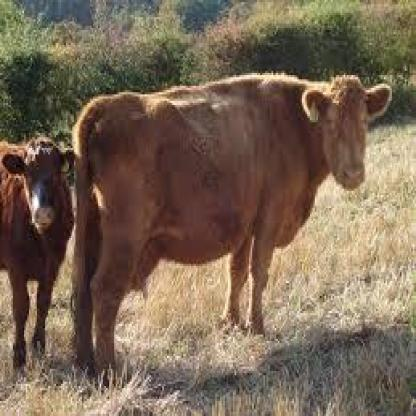cow: (73, 73, 393, 377), (0, 137, 75, 370)
